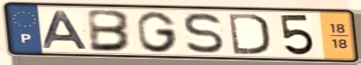5: (278, 14, 316, 57)
A: (41, 10, 91, 51)
B: (86, 8, 135, 53)
D: (226, 12, 273, 56)
G: (135, 10, 180, 54)
S: (182, 11, 226, 55)
